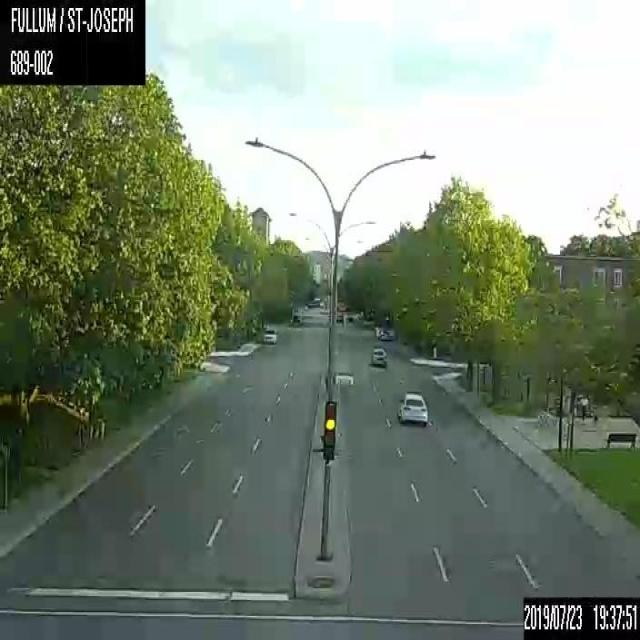pedestrian: (579, 394, 588, 423)
vehicle: (397, 391, 428, 425), (369, 344, 386, 367), (262, 327, 275, 344), (290, 313, 305, 326), (377, 328, 392, 340)
